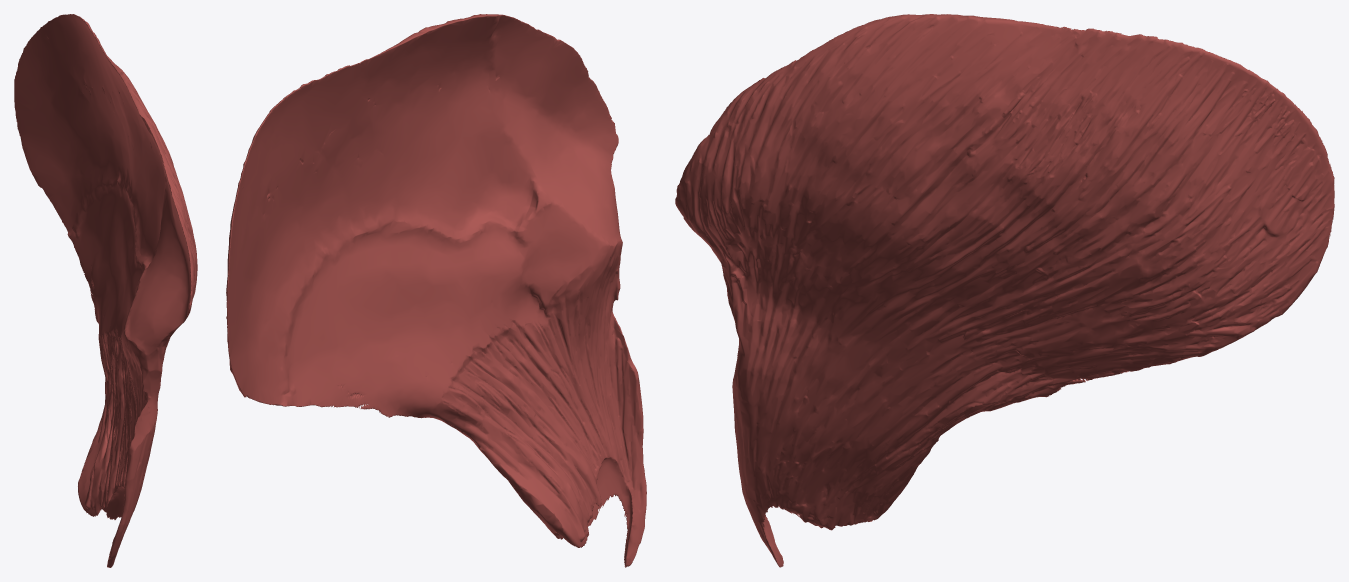
Rendered from FMA49008.glb.
3 renders of one model, left to right at view 1: azimuth 30°, elevation 25°; view 2: azimuth 150°, elevation 25°; view 3: azimuth 270°, elevation 25°, orthographic. The views are drawn at different scales.
Visible parts, largest first — view 1: FMA49008; view 2: FMA49008; view 3: FMA49008.
Part boxes in pixels (x1,y1,x2,y2): FMA49008: (14,14,197,567); FMA49008: (226,14,646,567); FMA49008: (675,14,1334,567).
Bounding box in the file's own units: 0.0378 × 0.1123 × 0.1106.
